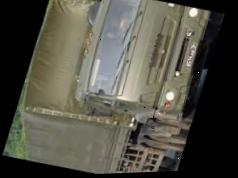truck: (0, 0, 226, 178)
